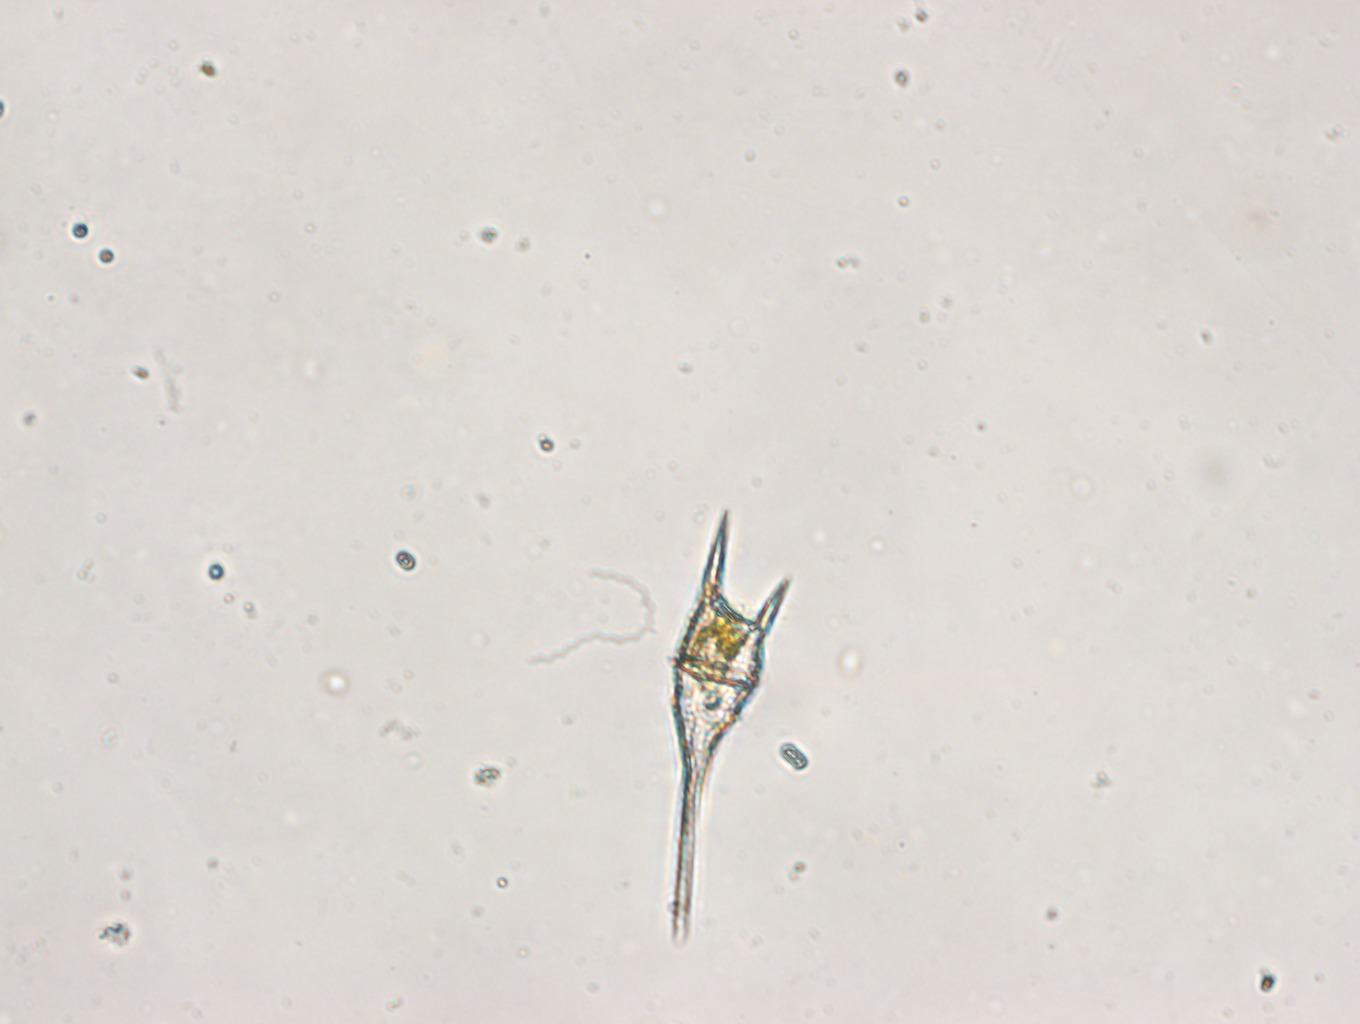ceratium furca: (663, 493, 794, 949)
